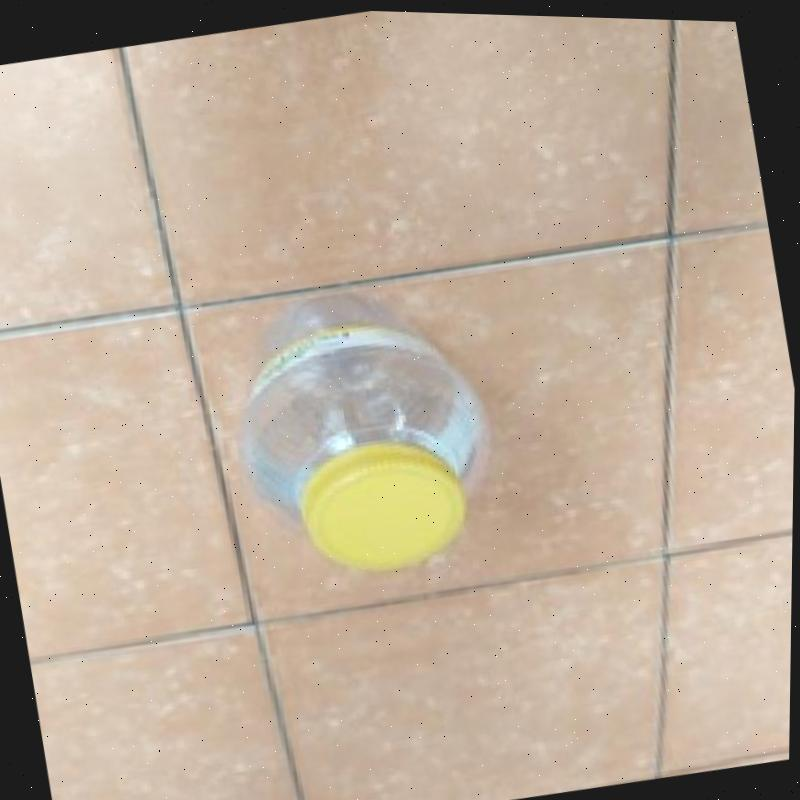botella: (190, 263, 517, 597)
